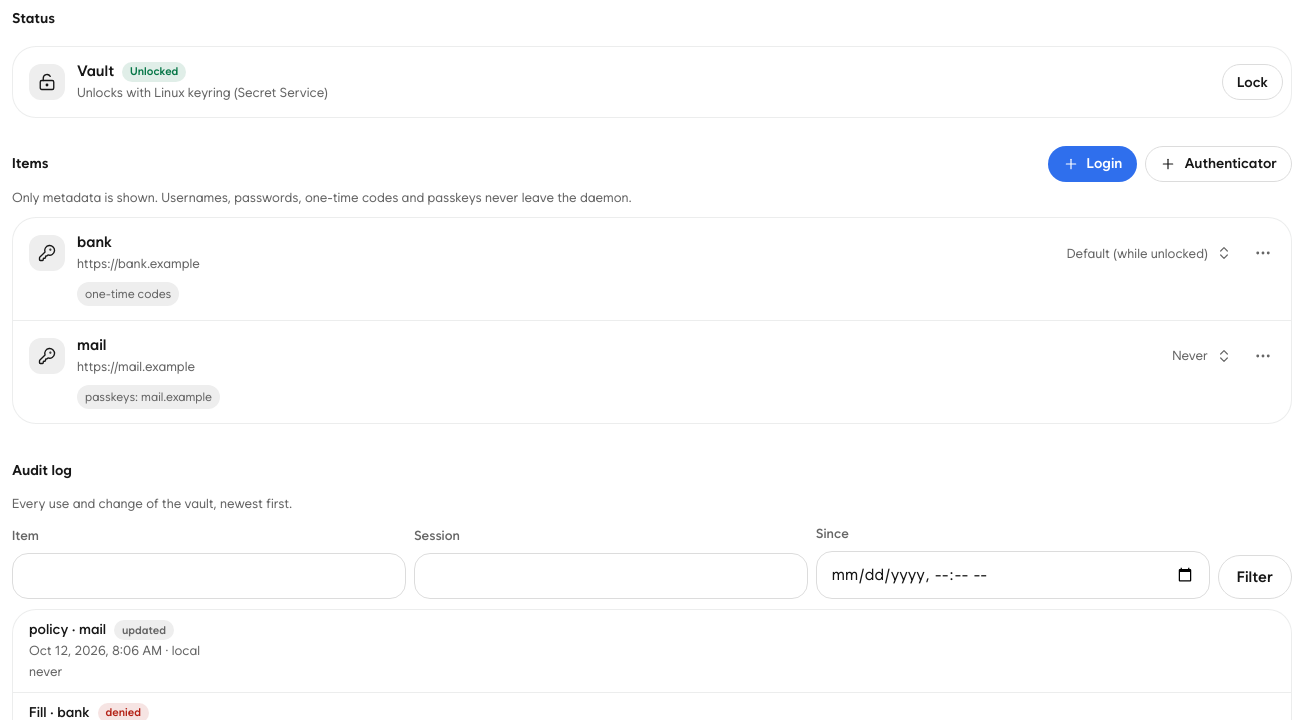
Test case: VaultPage › shows item metadata and changes a per-item policy
The image size is (1304, 720).
expect the text "one-time codes" is shown: met, box [77, 282, 179, 306]
What coordinates should you click on to do the following:
click the dropdown named "Use policy for bank"
I would click on:
 (1148, 253)
Its box is [1056, 235, 1241, 271].
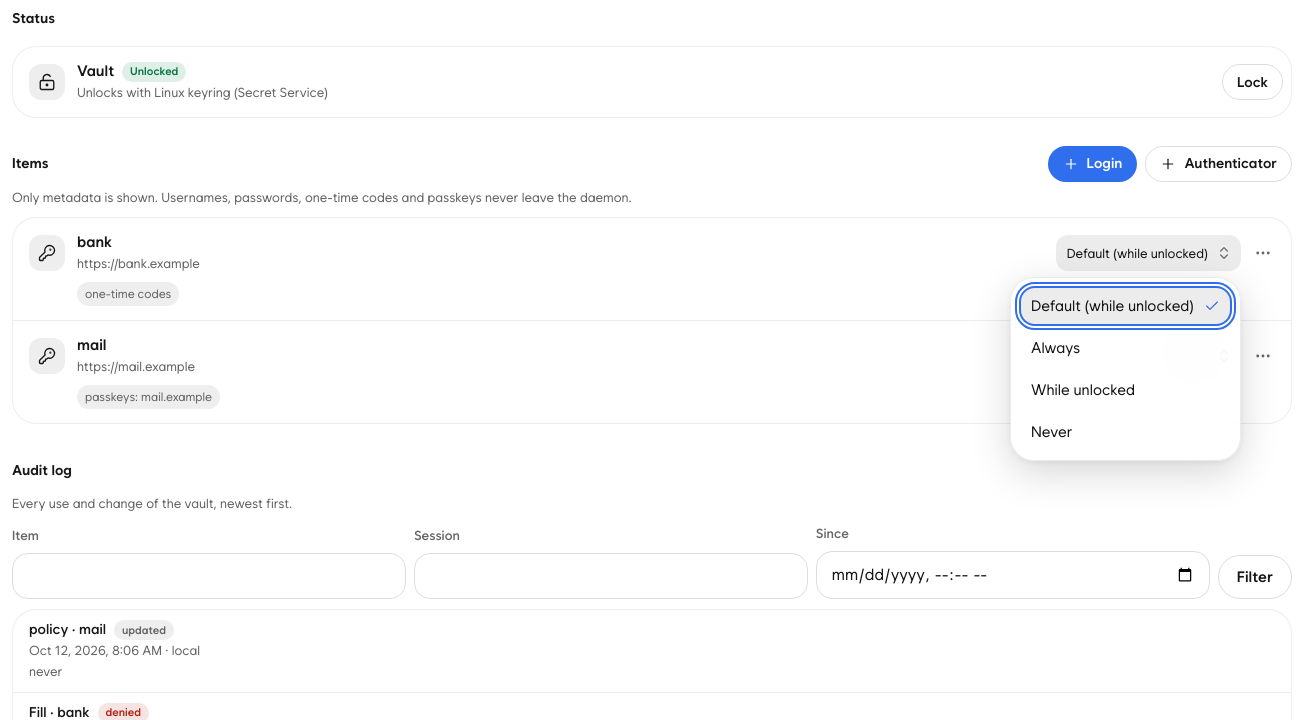
What coordinates should you click on to do the following:
click the option "Never"
I would click on:
 (1052, 432)
Its box is [1031, 423, 1072, 441].
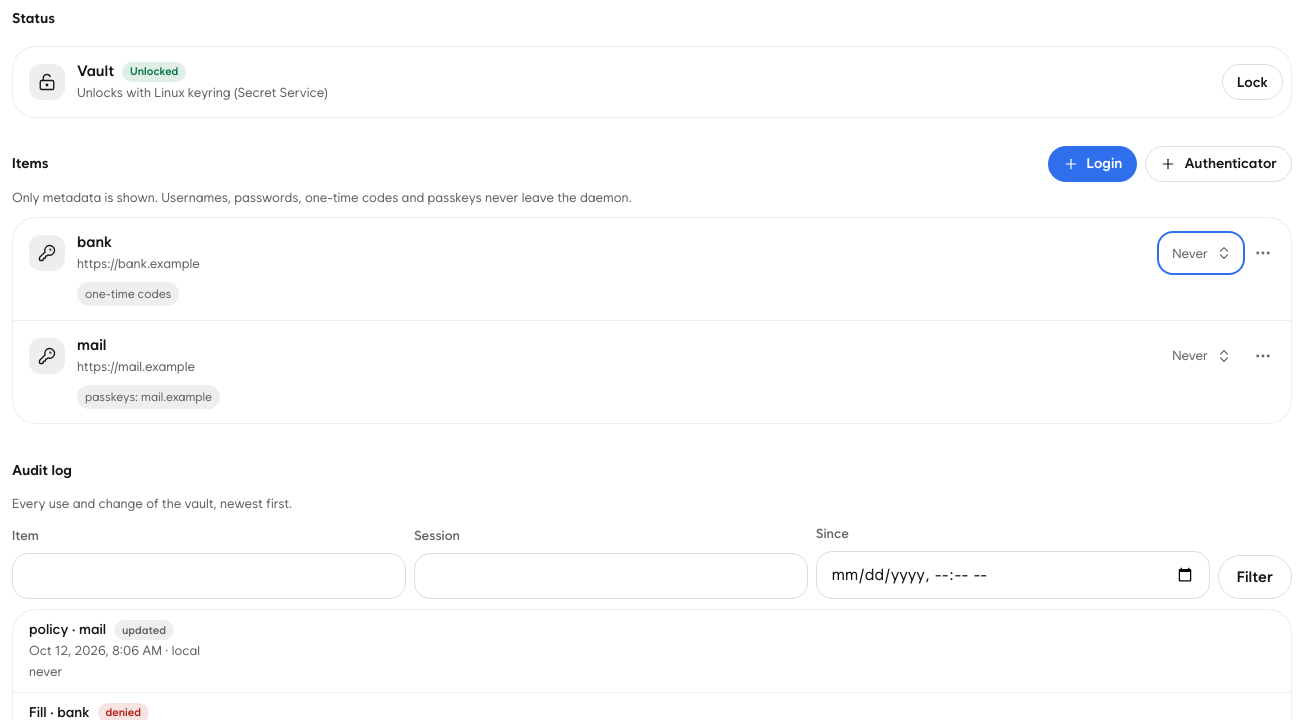
expect the dropdown named "Use policy for bank" reads "Never": met, box [1161, 235, 1241, 271]
